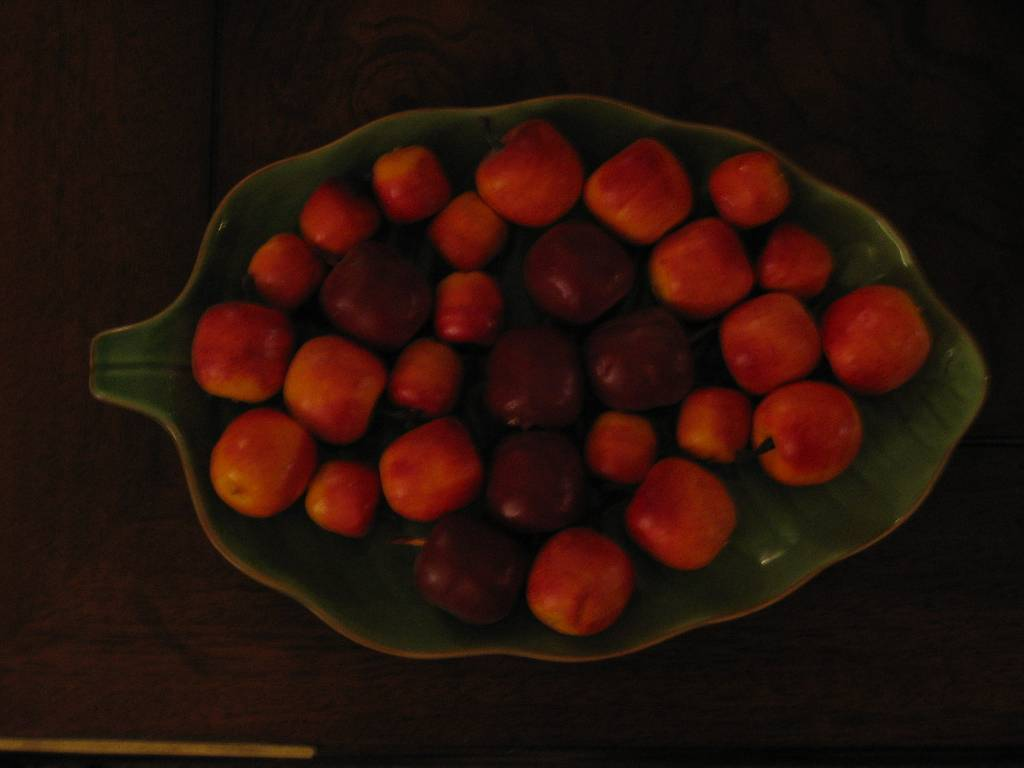Apple: (190, 119, 869, 639), (826, 279, 938, 394)
